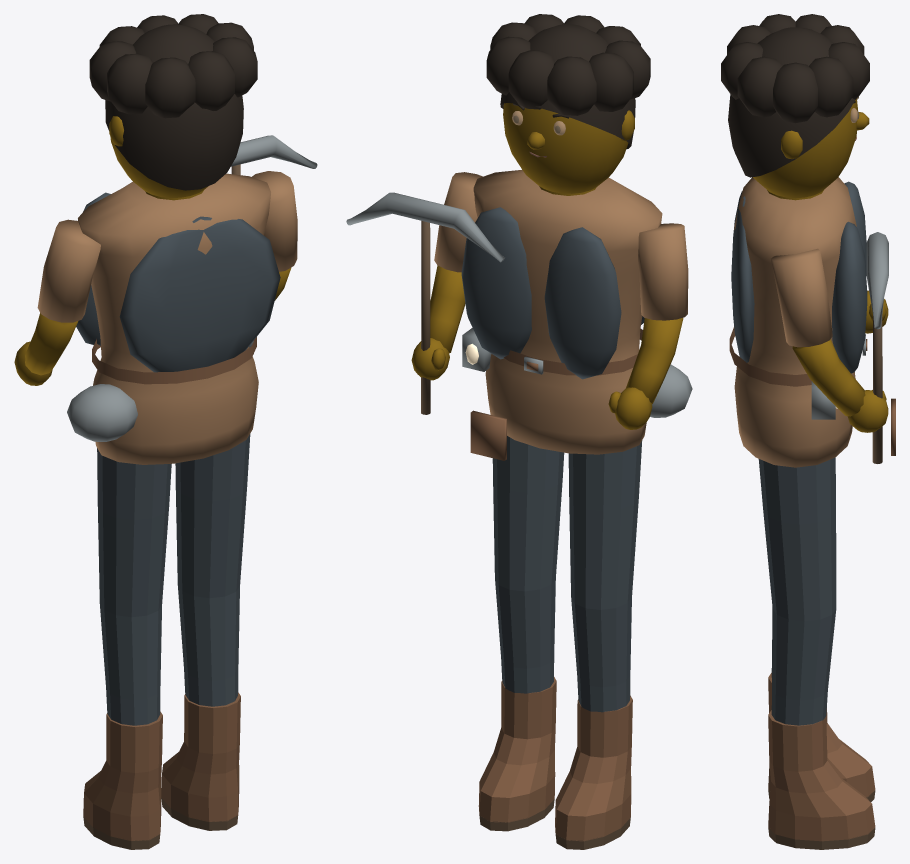
File: SM_NPC_BRASA.glb
3 renders of one model, left to right at view 1: azimuth 30°, elevation 25°; view 2: azimuth 150°, elevation 25°; view 3: azimuth 270°, elevation 25°, orthographic. The views are drawn at different scales.
Parts seen in each view (by area): view 1: SM_NPC_BRASA_BODY, SM_NPC_BRASA_LEG_L, SM_NPC_BRASA_LEG_R, SM_NPC_BRASA_HAIR, SM_NPC_BRASA_ARM_L, SM_NPC_BRASA_ARM_R, SM_NPC_BRASA_HEAD; view 2: SM_NPC_BRASA_BODY, SM_NPC_BRASA_LEG_L, SM_NPC_BRASA_LEG_R, SM_NPC_BRASA_HAIR, SM_NPC_BRASA_ARM_R, SM_NPC_BRASA_ARM_L, SM_NPC_BRASA_HEAD; view 3: SM_NPC_BRASA_BODY, SM_NPC_BRASA_LEG_R, SM_NPC_BRASA_HAIR, SM_NPC_BRASA_ARM_R, SM_NPC_BRASA_HEAD, SM_NPC_BRASA_LEG_L, SM_NPC_BRASA_ARM_L.
Boxes of the visible parts, x1,y1,x2,y2 form: SM_NPC_BRASA_BODY: (67,173,280,464); SM_NPC_BRASA_LEG_L: (83,448,171,849); SM_NPC_BRASA_LEG_R: (161,434,250,830); SM_NPC_BRASA_HAIR: (89,14,257,190); SM_NPC_BRASA_ARM_L: (14,219,100,385); SM_NPC_BRASA_ARM_R: (231,135,317,300); SM_NPC_BRASA_HEAD: (109,99,242,197); SM_NPC_BRASA_BODY: (461,170,692,460); SM_NPC_BRASA_LEG_L: (555,440,642,849); SM_NPC_BRASA_LEG_R: (478,436,564,831); SM_NPC_BRASA_HAIR: (486,14,650,149); SM_NPC_BRASA_ARM_R: (346,172,504,414); SM_NPC_BRASA_ARM_L: (608,223,688,429); SM_NPC_BRASA_HEAD: (503,103,634,193); SM_NPC_BRASA_BODY: (729,177,895,467); SM_NPC_BRASA_LEG_R: (758,458,875,849); SM_NPC_BRASA_HAIR: (721,14,869,177); SM_NPC_BRASA_ARM_R: (771,232,888,463); SM_NPC_BRASA_HEAD: (753,98,869,198); SM_NPC_BRASA_LEG_L: (768,457,875,801); SM_NPC_BRASA_ARM_L: (865,290,888,333).
Size of the model in its own units: 0.7365 by 1.81 by 0.3655.
